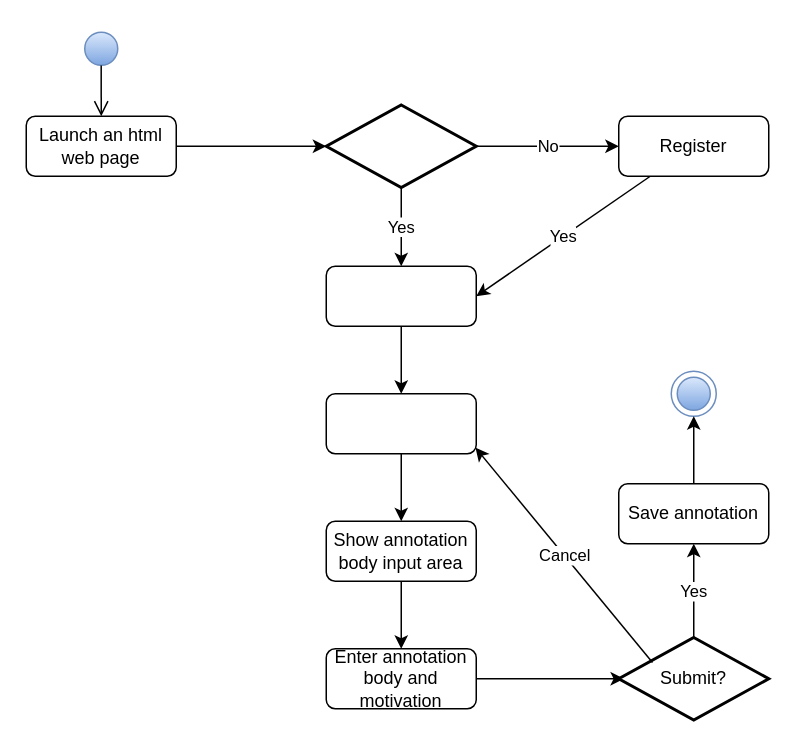
Some shapes in this 797 by 747 pixel diagram are drawn without their labels. The shapes that lost their labels are listed below. From the top down, each one's centre as x and y in pixels, then its label:
(400,145): Member?
(400,295): Login
(400,423): Select annotation target from the page
